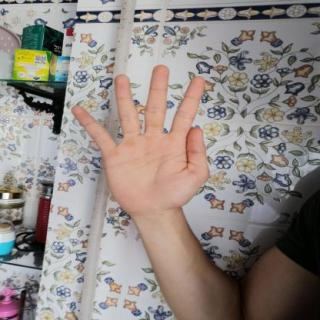SHEEN: (66, 59, 216, 220)
